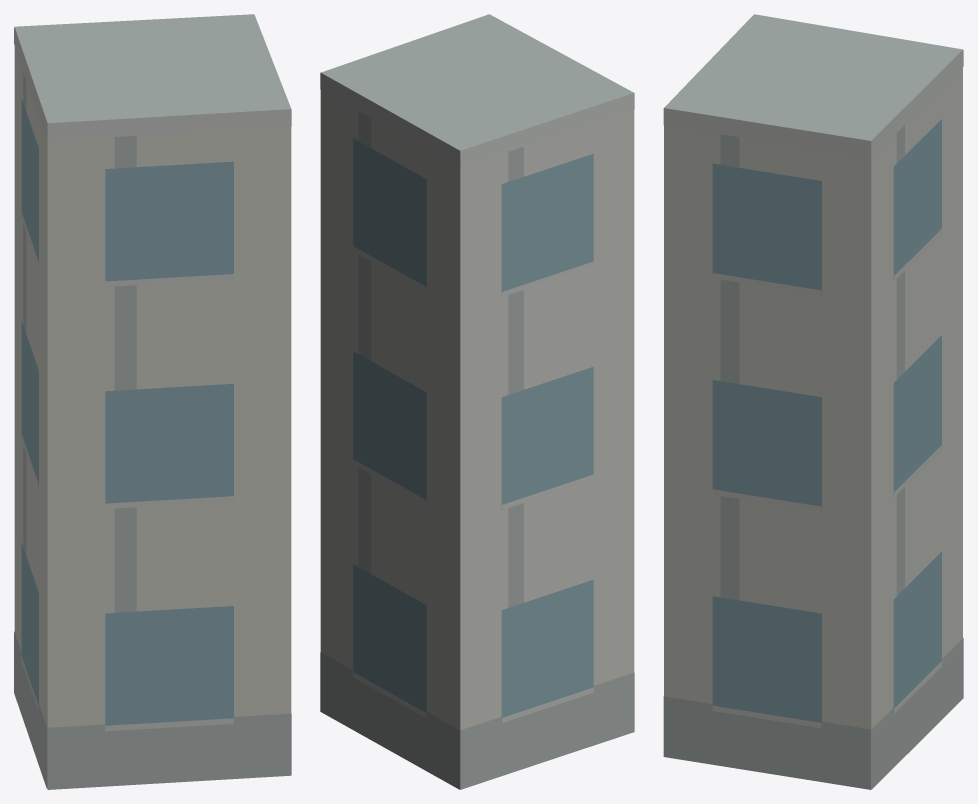
The model's file is survey-upis-32666152.glb.
3 views of the same model, side by side, from view 1: azimuth 30°, elevation 25°; view 2: azimuth 150°, elevation 25°; view 3: azimuth 270°, elevation 25° (orthographic). The views are drawn at different scales.
Visible parts, largest first — view 1: survey-upis-32666152.tmp; view 2: survey-upis-32666152.tmp; view 3: survey-upis-32666152.tmp.
Boxes of the visible parts, x1,y1,x2,y2 form: survey-upis-32666152.tmp: (14, 14, 291, 789); survey-upis-32666152.tmp: (320, 14, 634, 789); survey-upis-32666152.tmp: (663, 14, 963, 789).
Size of the model in its own units: 3.85 by 9.15 by 3.84.
